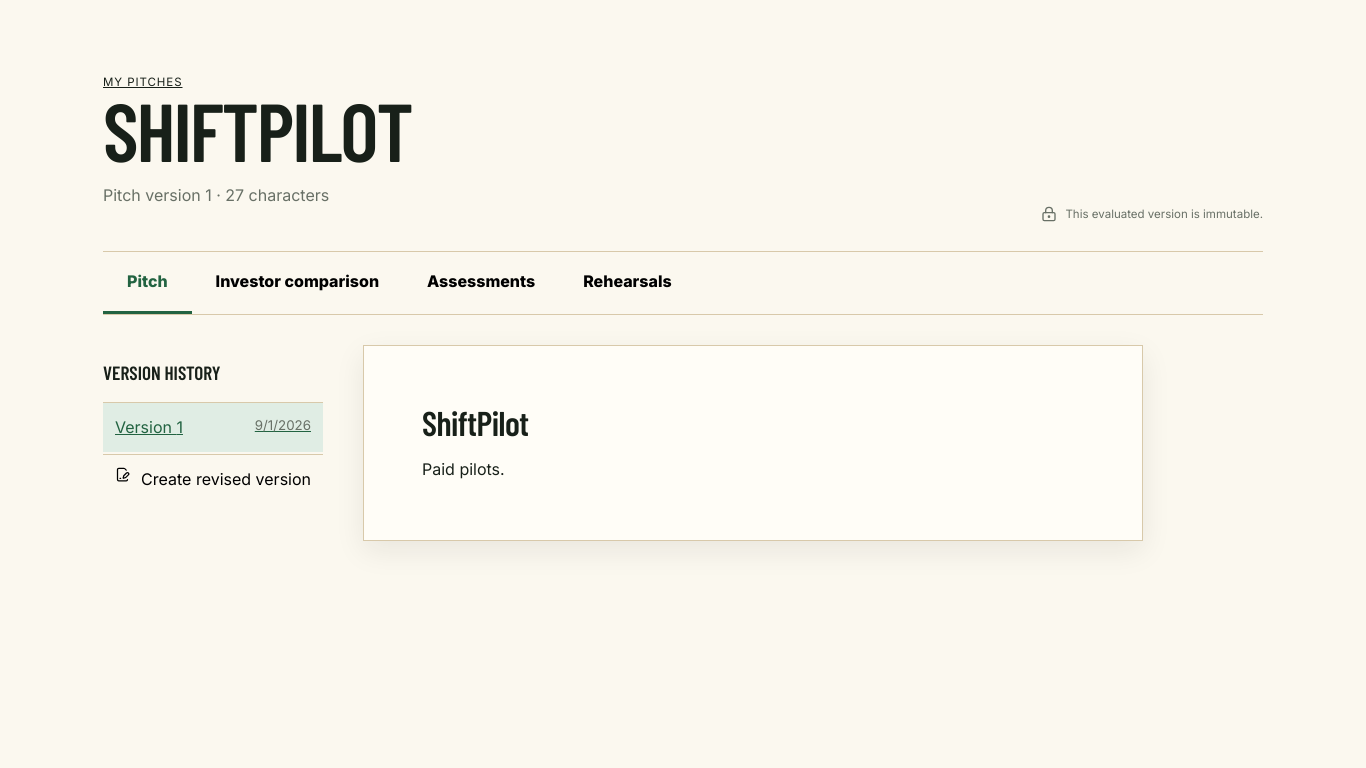
Test: keeps immutable pitch markdown available and supports one investor
Expected: the heading "ShiftPilot" below "My pitches" is shown, [103,93,412,167]
Expected: the text "Paid pilots." is shown, [422,459,505,479]
Click the tab "Investor comparison". click: (297, 283)
box: [192,252,403,314]
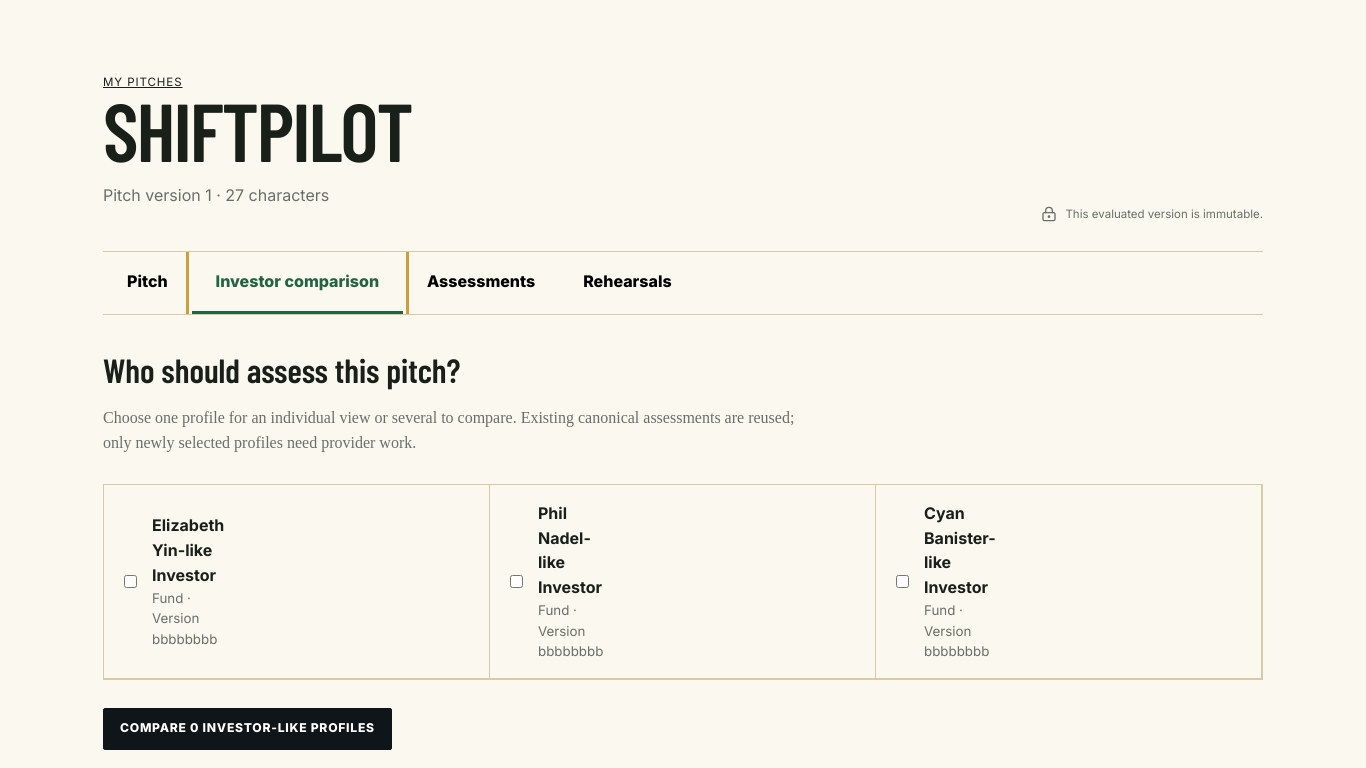
Result: the text "Choose one profile for an individual view" is shown at [103,409,794,451]
